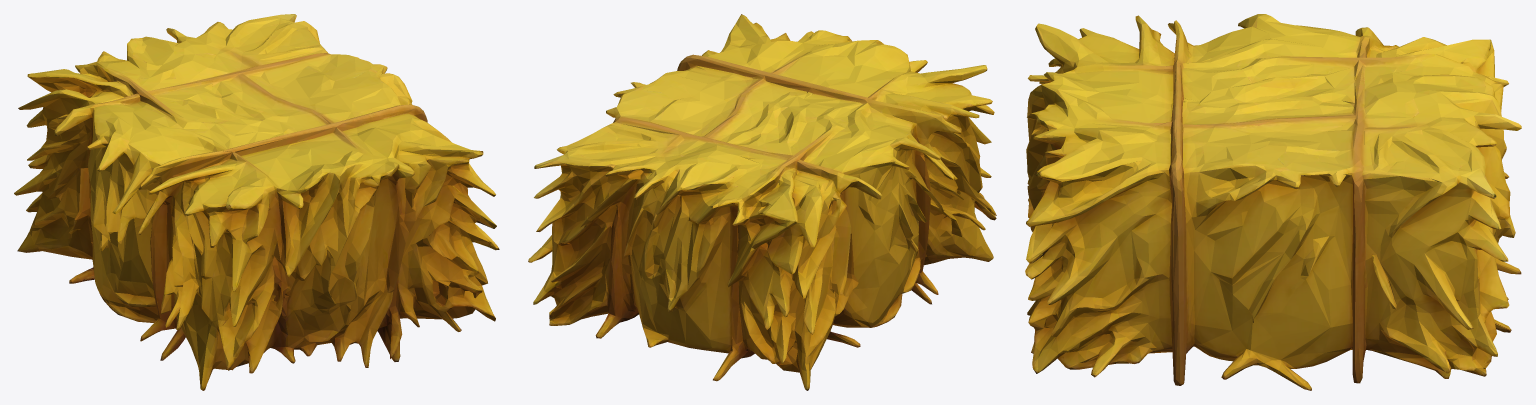
File: hay_bale.glb
3 views of the same model, side by side, from view 1: azimuth 30°, elevation 25°; view 2: azimuth 150°, elevation 25°; view 3: azimuth 270°, elevation 25° (orthographic). The views are drawn at different scales.
Visible parts, largest first — view 1: world; view 2: world; view 3: world.
Part boxes in pixels (<box>): world: <box>14,14,499,390</box>; world: <box>528,14,996,390</box>; world: <box>1025,14,1521,390</box>.
Bounding box in the file's own units: 0.8568 × 0.5122 × 0.9987.
Materials: 1 (1 with a texture image).
